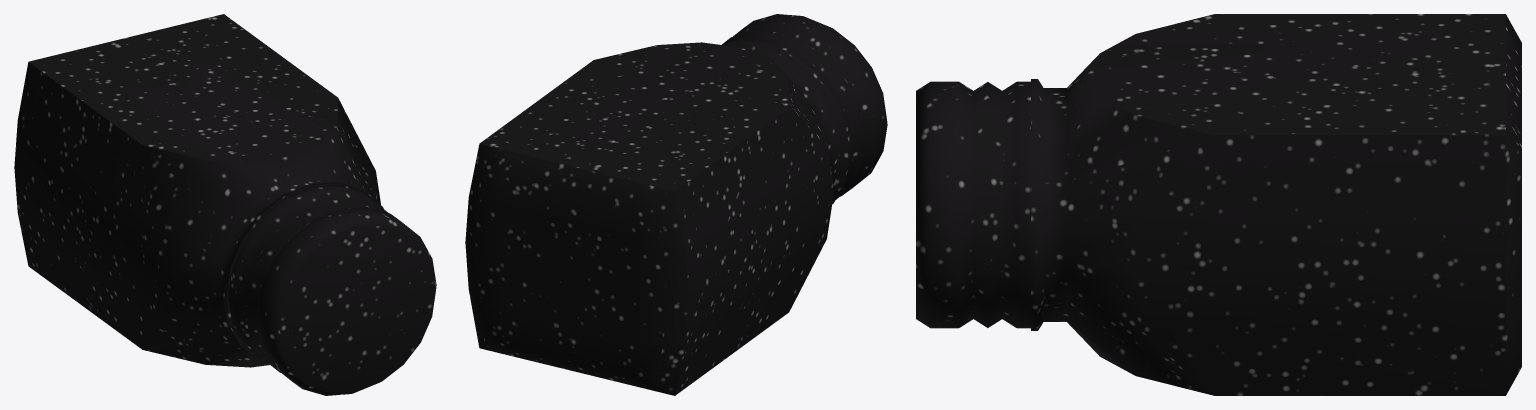
The picture shows the model from 3 angles, left to right: view 1: azimuth 30°, elevation 25°; view 2: azimuth 150°, elevation 25°; view 3: azimuth 270°, elevation 25°; orthographic projection. The views are drawn at different scales.
Size of the model in its own units: 0.5424 by 0.4744 by 1.
